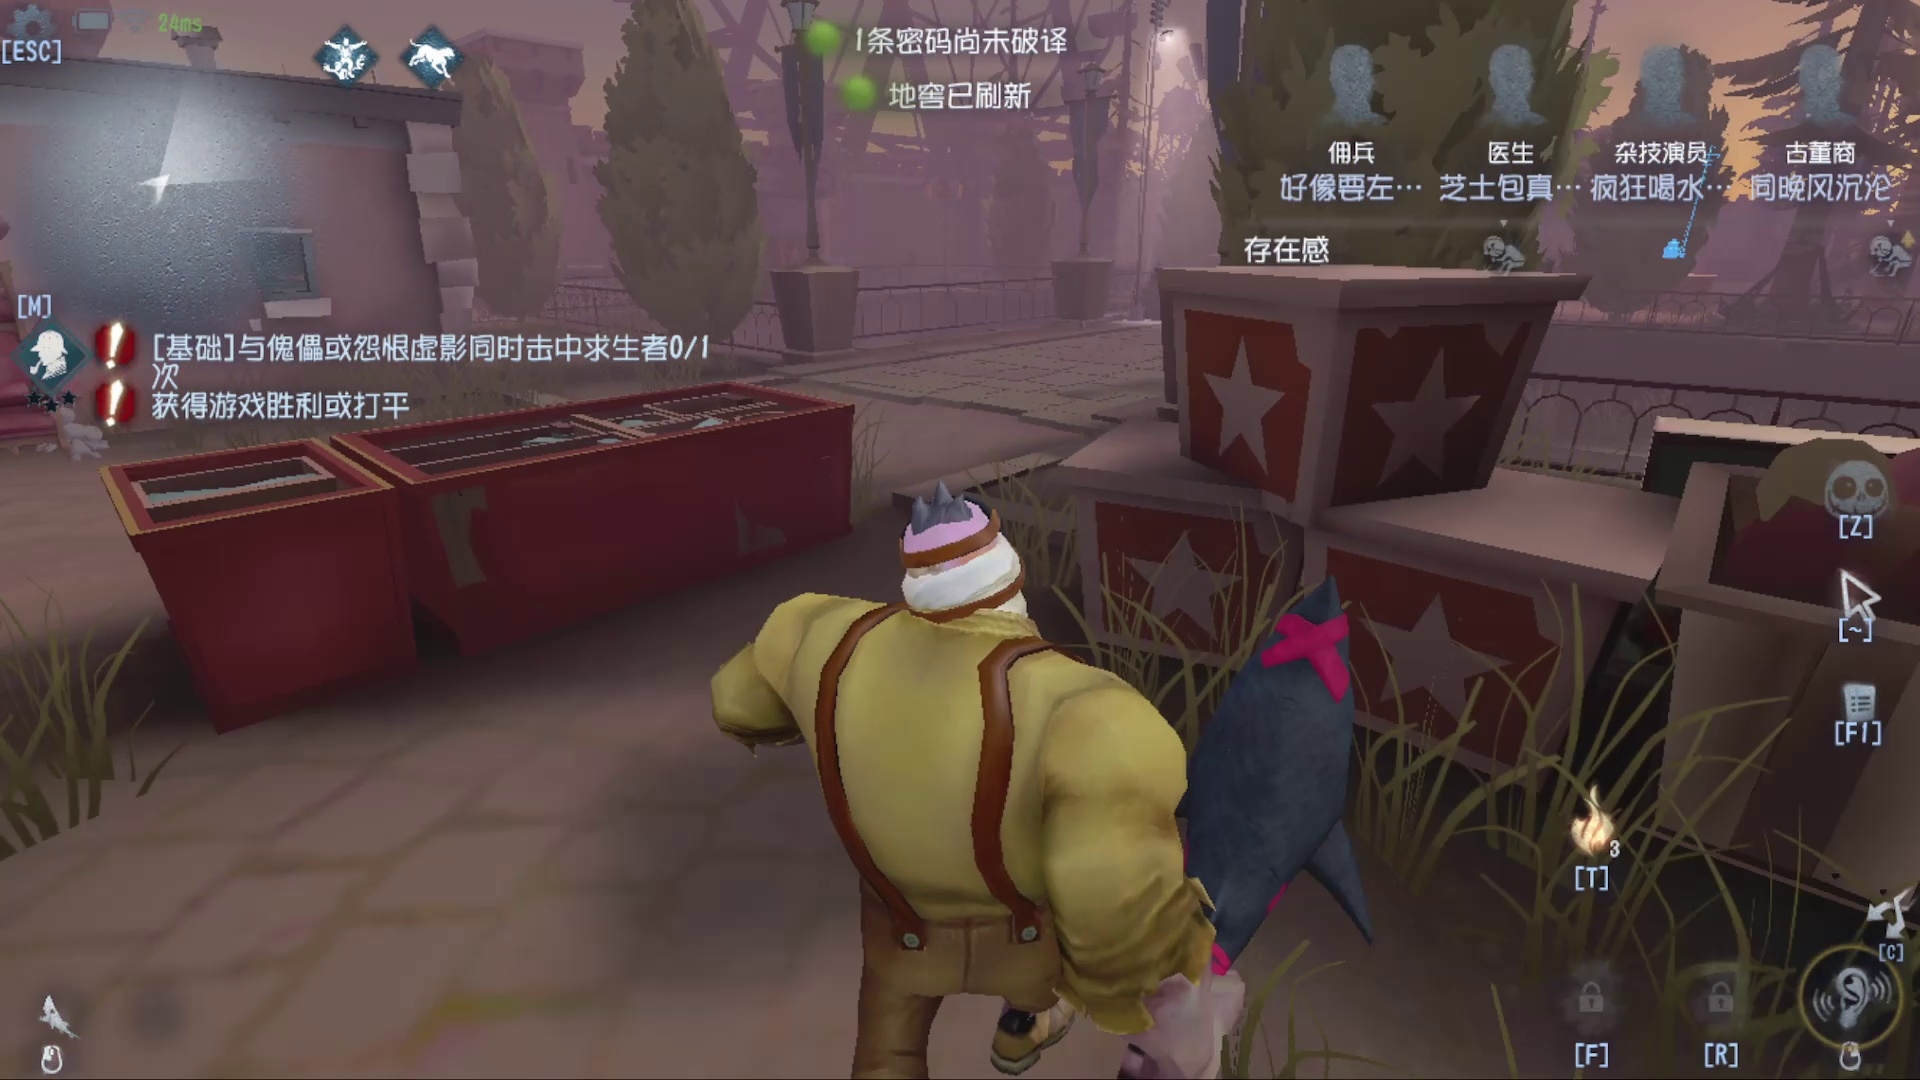密码机: (1636, 145, 1746, 290)
